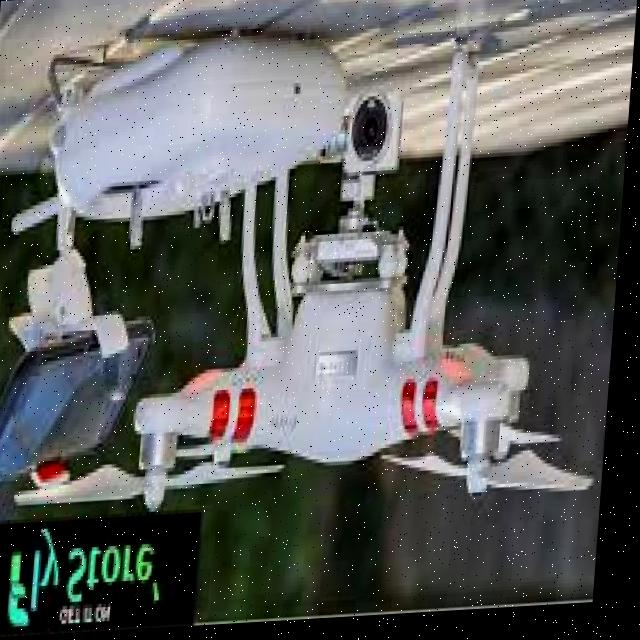drone: (45, 60, 602, 536)
